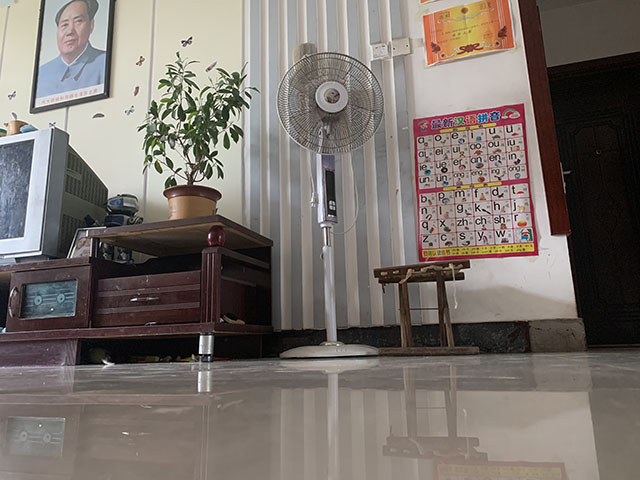cabinet: (1, 213, 275, 367)
stool: (373, 258, 482, 357)
